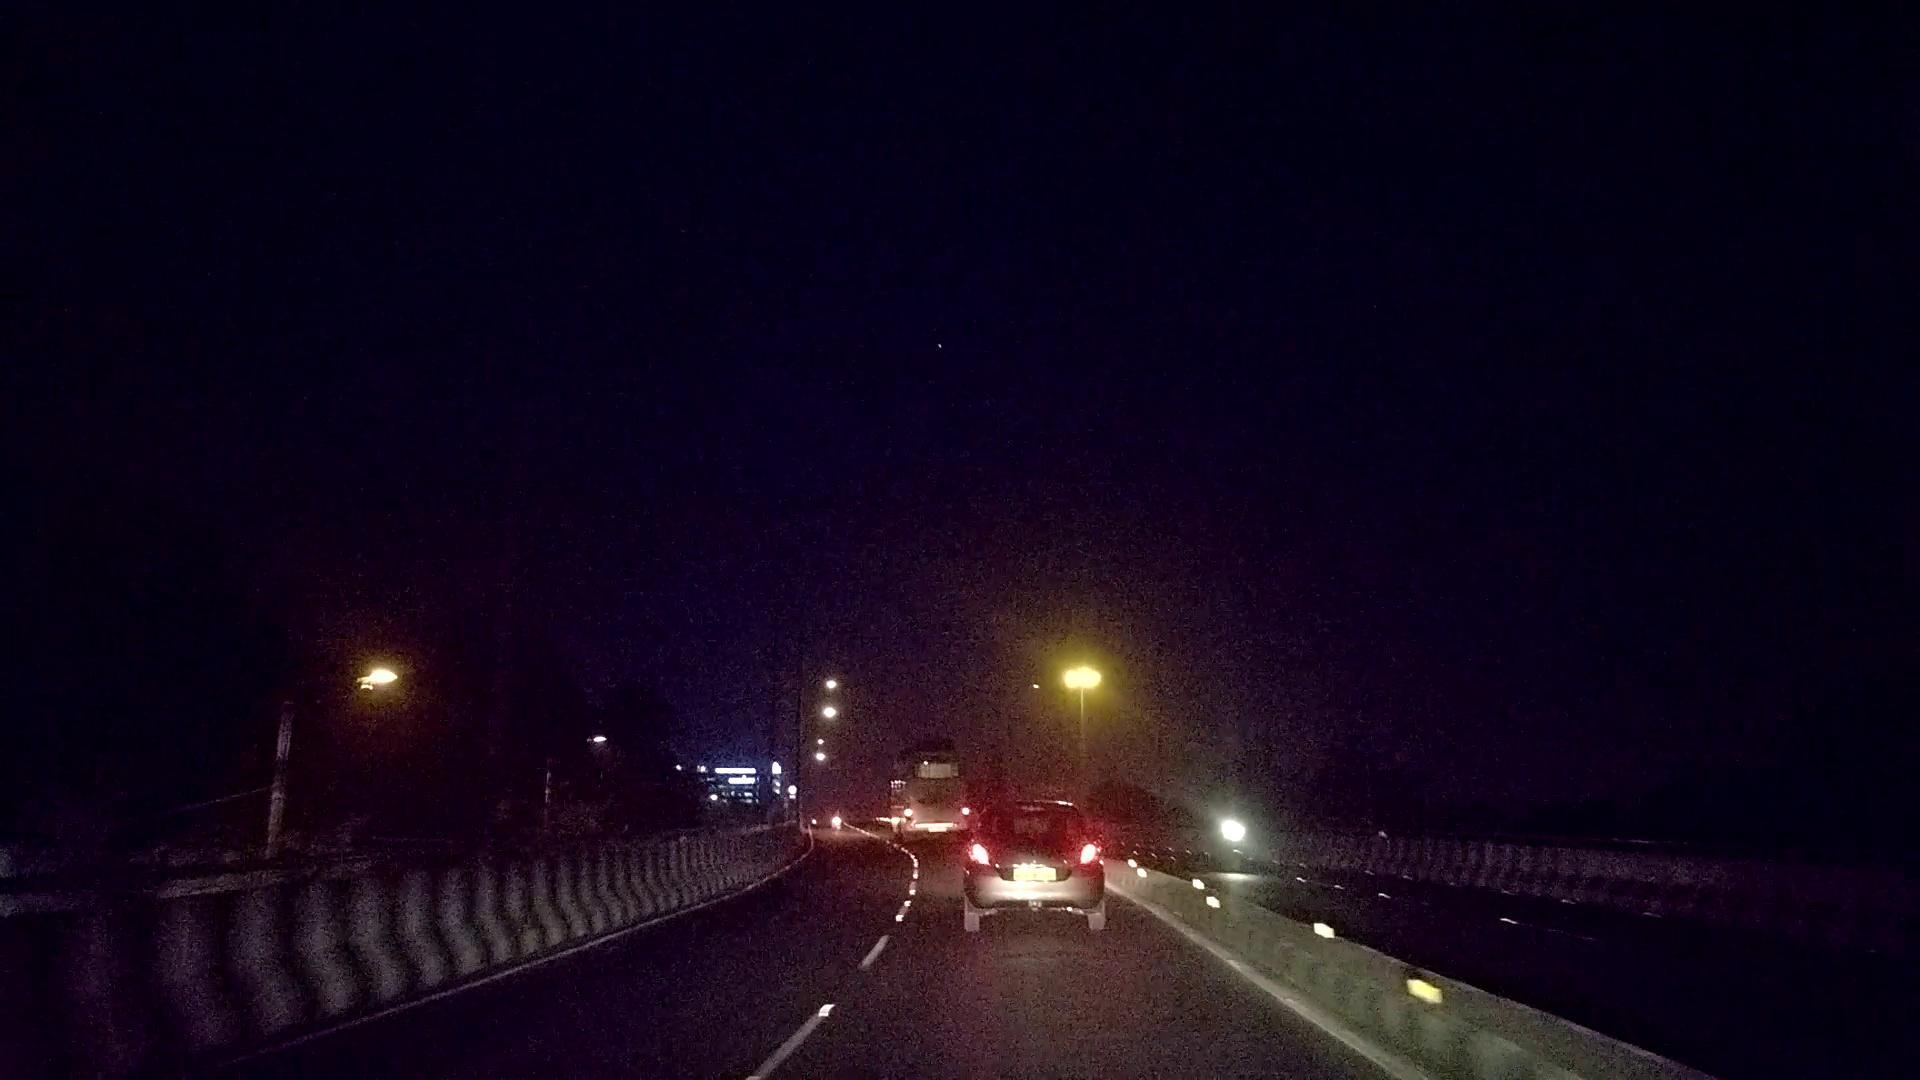on: (280, 542, 455, 795), (949, 622, 1167, 811)
